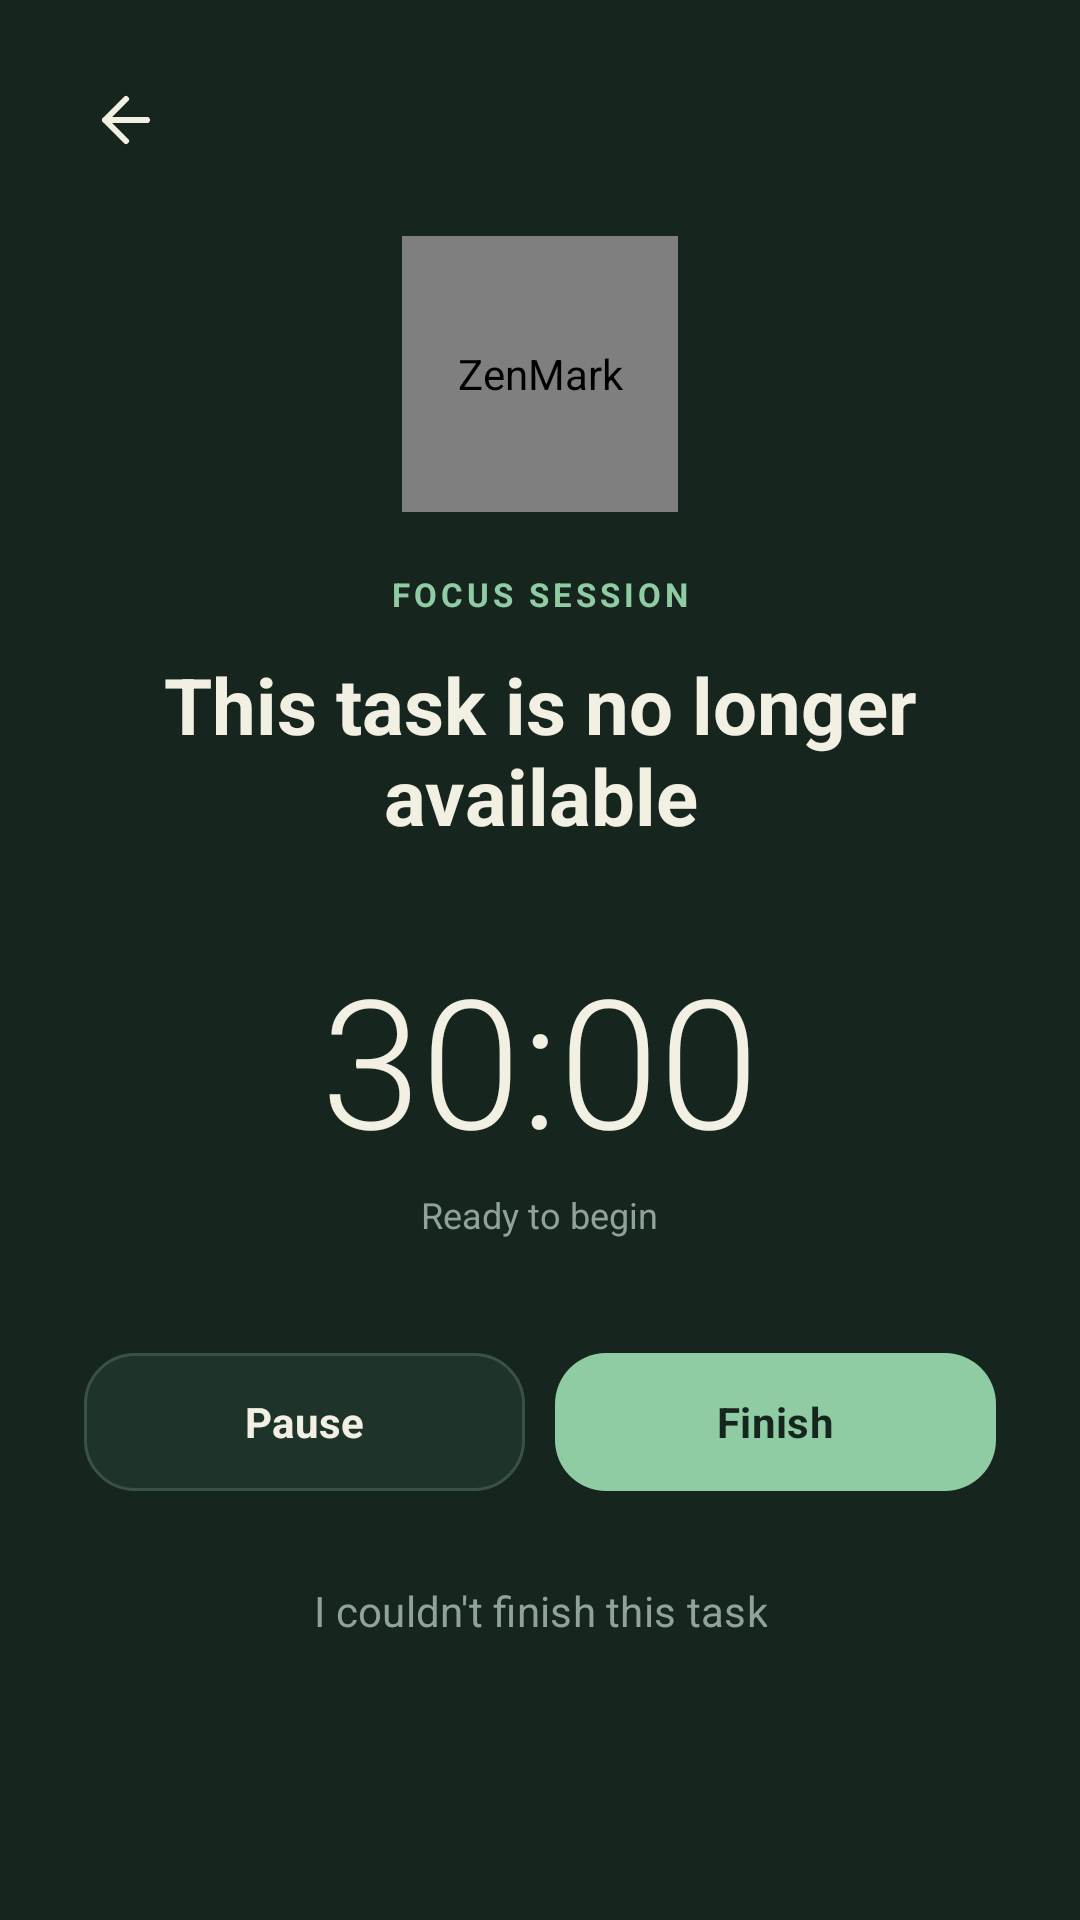

Named icons in this screenshot (1080 x 1920) and their centers, (x,y):
Back: (126,120)
